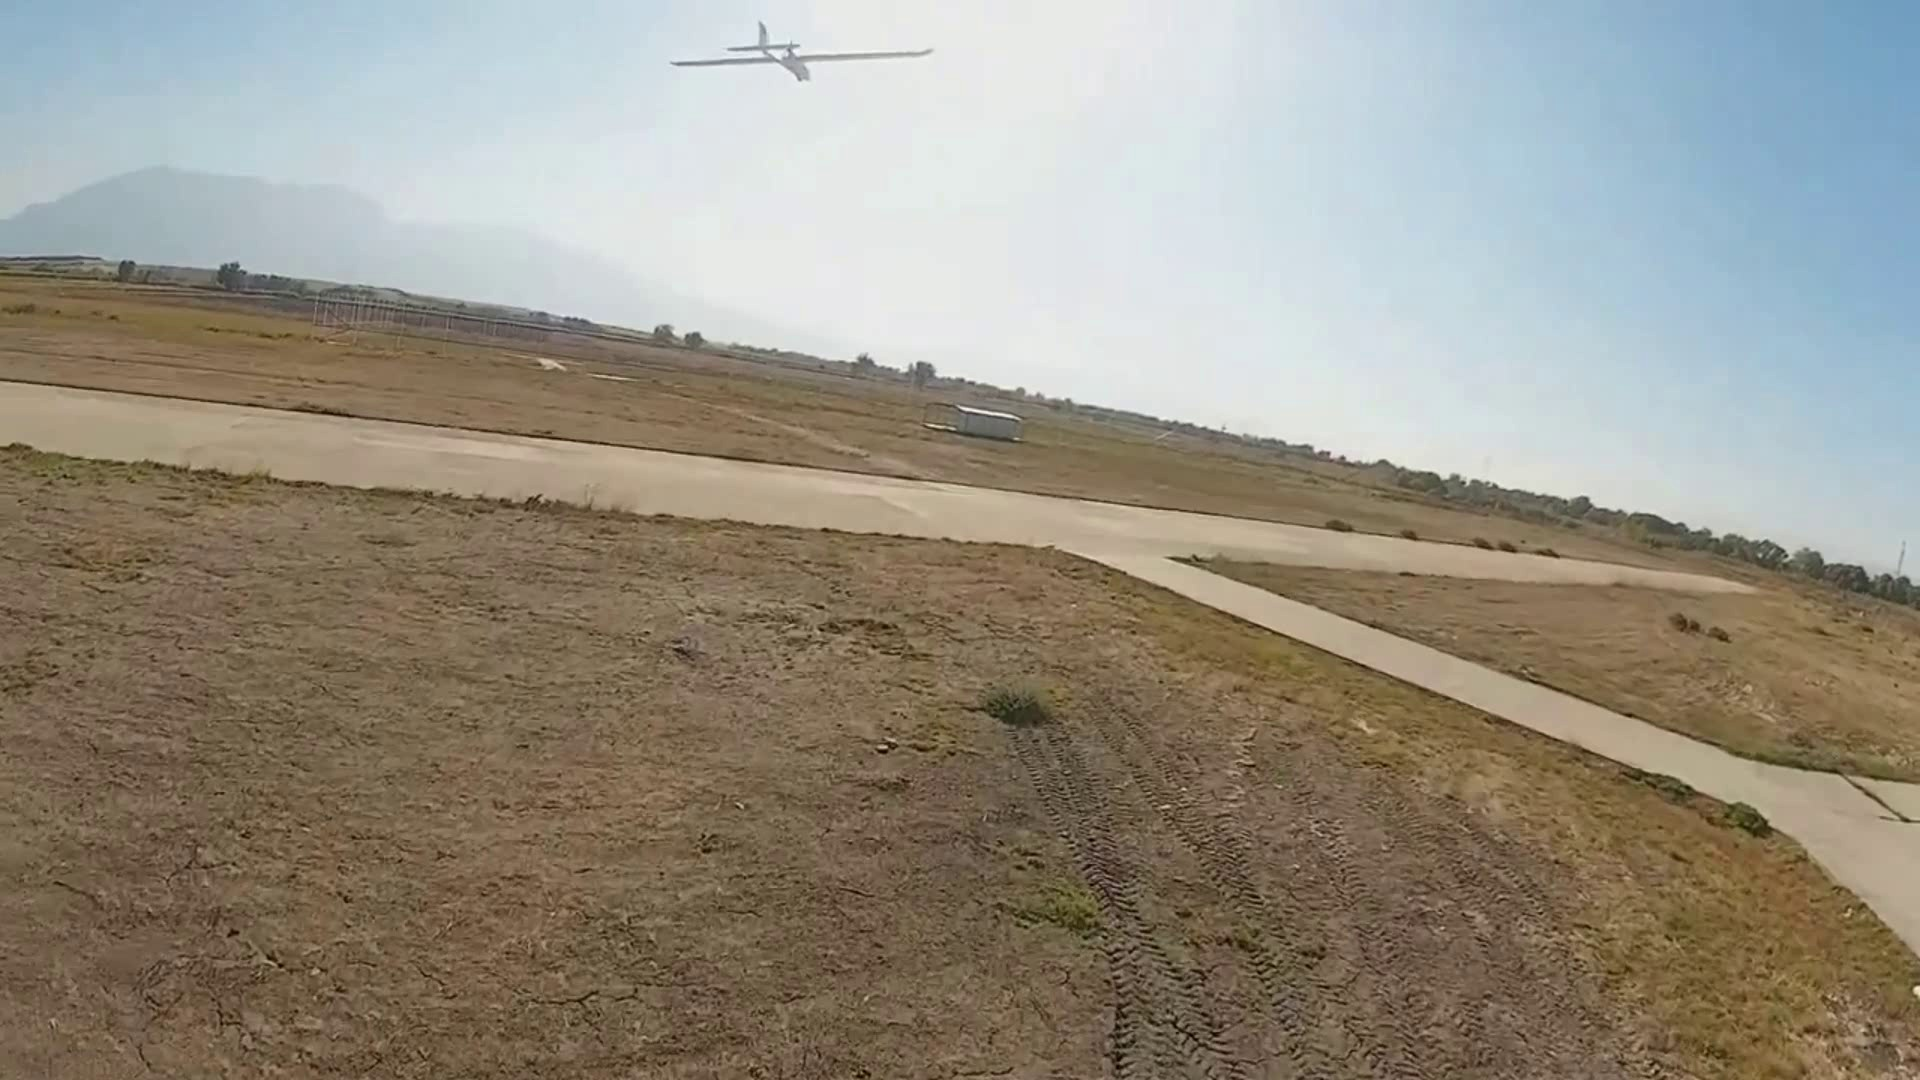airplane: (669, 19, 936, 85)
